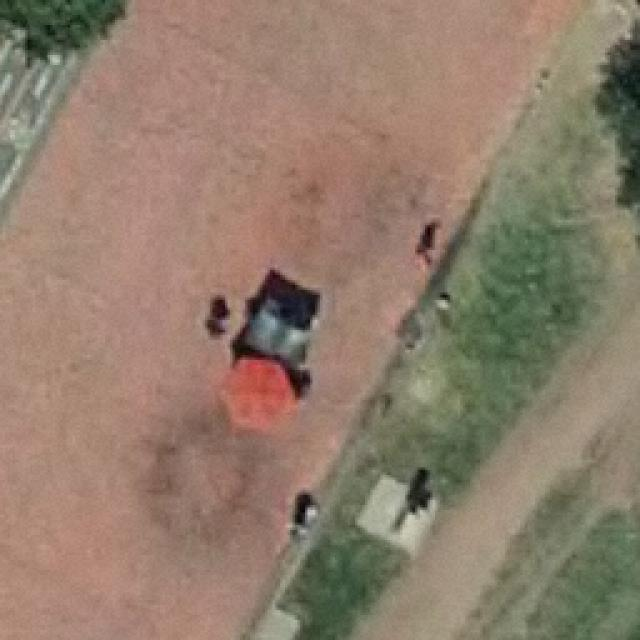vendedor_ambulante: (216, 350, 302, 436)
